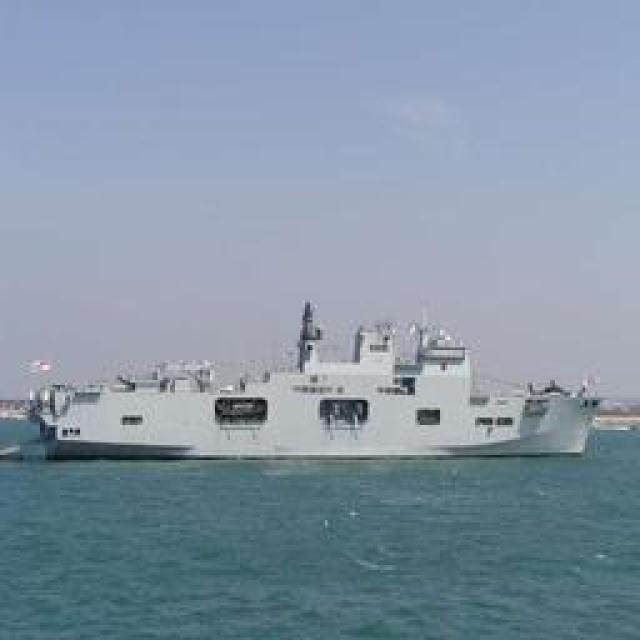ship: (12, 305, 600, 463)
